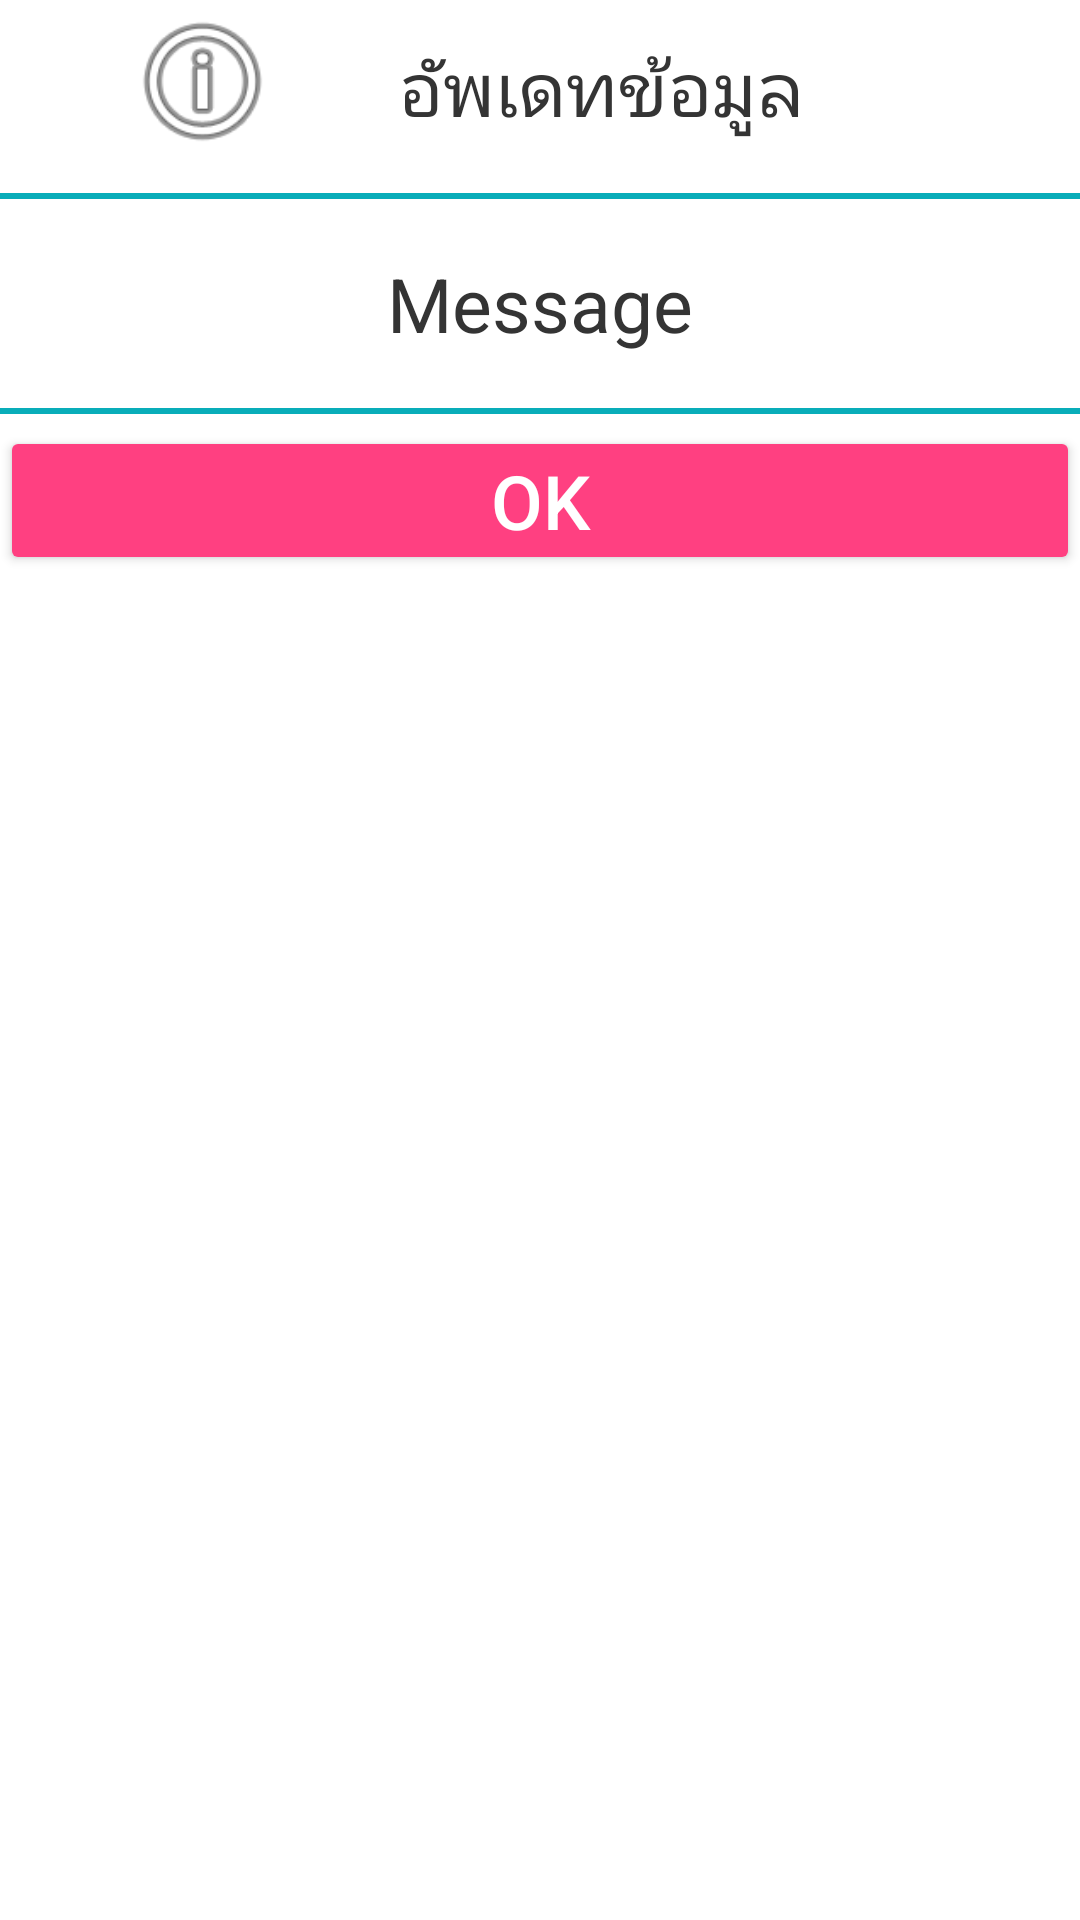

Locate icon controls on the screen. Image size 1080 x 1920, boxes as BBox(x1, y1, x2, y2).
info details: BBox(143, 23, 262, 140)
